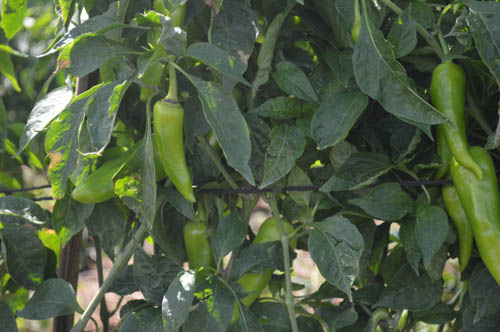ChiliPepper: (230, 204, 305, 330), (439, 148, 500, 289), (424, 59, 487, 182), (151, 101, 207, 207), (62, 150, 168, 206), (135, 1, 189, 103), (434, 180, 475, 271), (177, 220, 224, 289)
